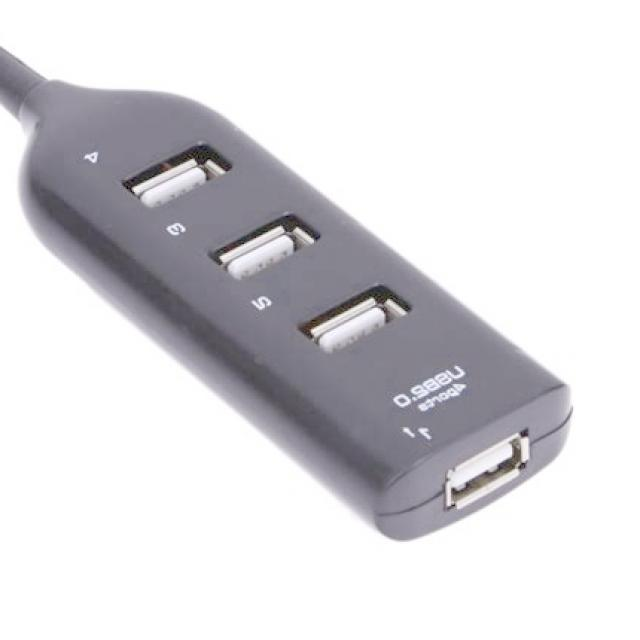usb port: (430, 430, 539, 512), (218, 207, 312, 283), (317, 277, 397, 351), (140, 137, 223, 208)
